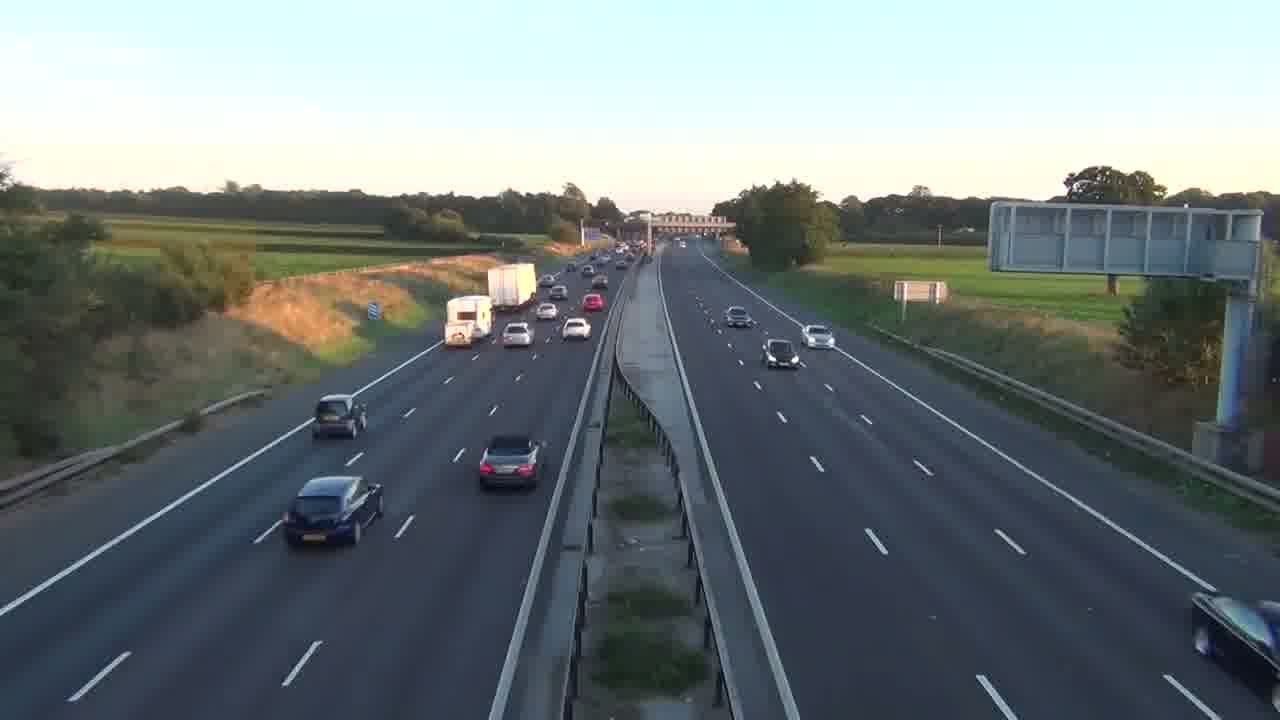car: (283, 474, 383, 547), (477, 433, 546, 490), (313, 393, 367, 439), (502, 321, 534, 348), (802, 324, 836, 349), (561, 317, 592, 341)
